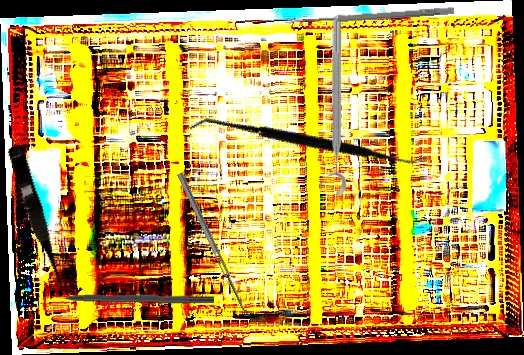Fixation Ring: (318, 18, 346, 196)
Hook Surgical: (44, 291, 215, 305)
Micro Scissor: (4, 143, 69, 294)
Spatula Surgical: (188, 47, 429, 240), (177, 169, 255, 319)
Surgical Spoon: (284, 6, 455, 26)
